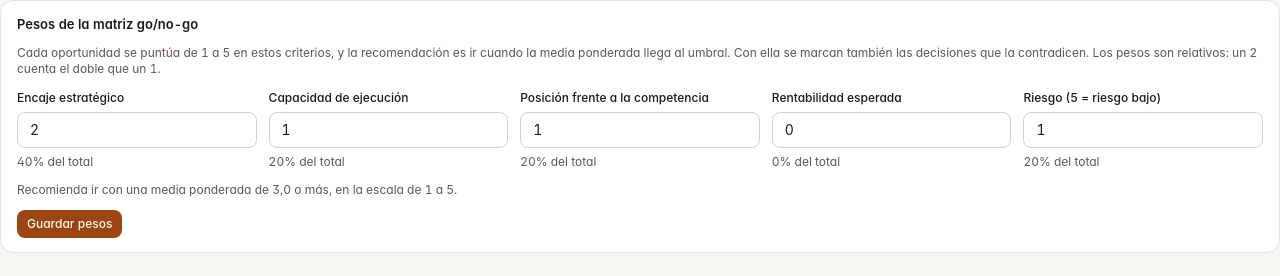
PesosGoNoGoCard › todos a cero no se guarda: el backend volvería en silencio a los pesos iguales
Step 1. Replace the text in the field labelled "Encaje estratégico" with "0" → (137, 130), box left=17, top=112, right=257, bottom=148
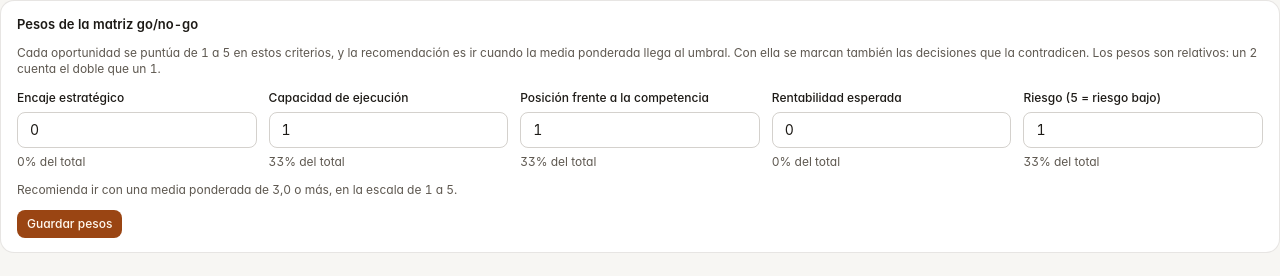
Step 2. Replace the text in the field labelled "Capacidad de ejecución" with "0" → (388, 130), box left=269, top=112, right=508, bottom=148
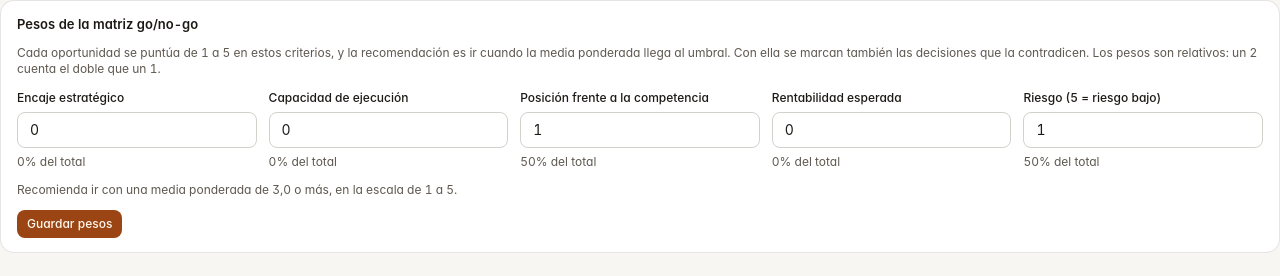
Step 3. Replace the text in the field labelled "Posición frente a la competencia" with "0" → (640, 130), box left=520, top=112, right=760, bottom=148
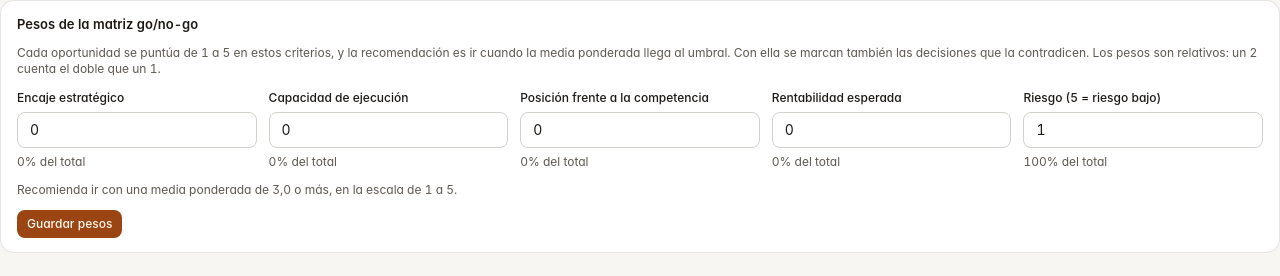
Step 4. Replace the text in the field labelled "Riesgo (5 = riesgo bajo)" with "0" → (1143, 130), box left=1023, top=112, right=1263, bottom=148
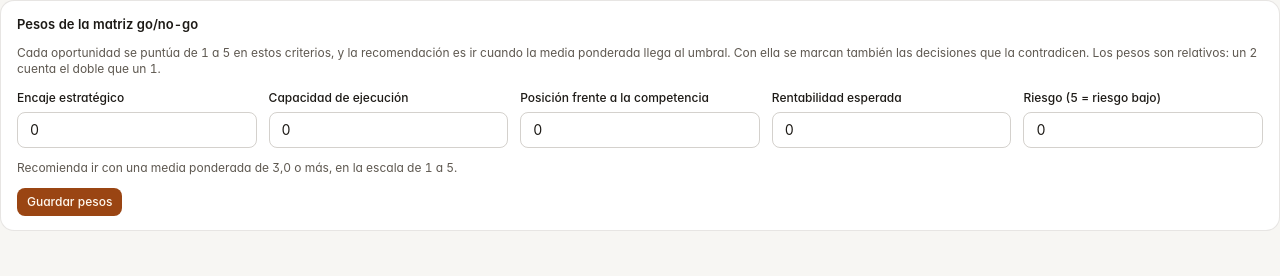
Step 5. Click the button "Guardar pesos" → (70, 202), box left=17, top=188, right=122, bottom=216
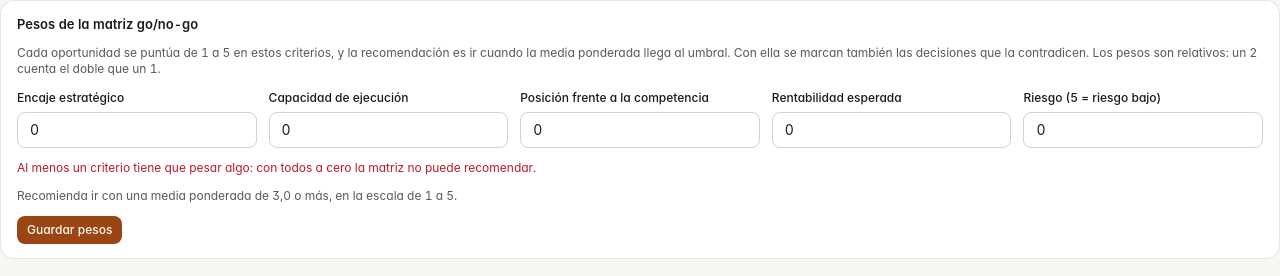
Expected: the message shows "Al menos un criterio tiene que pesar algo", left=17, top=160, right=536, bottom=175
